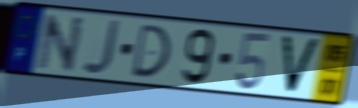5: (234, 32, 272, 92)
9: (181, 28, 216, 86)
D: (129, 22, 173, 79)
J: (80, 19, 122, 77)
N: (35, 13, 87, 74)
V: (279, 33, 323, 97)
